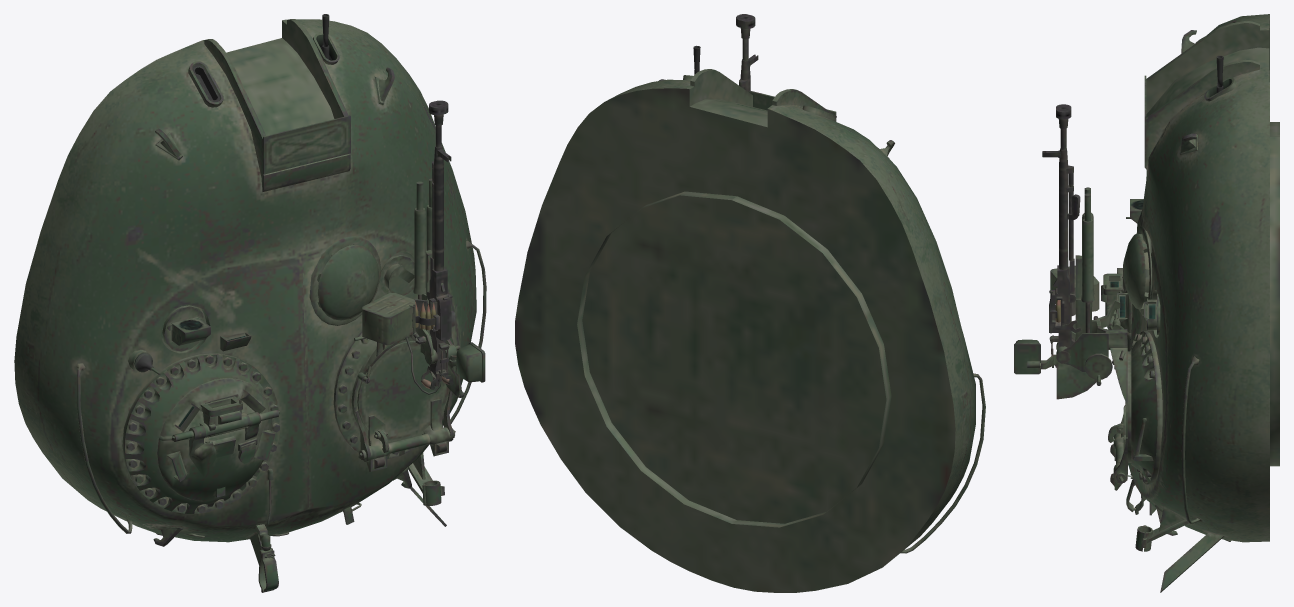
File: Turret_01.glb
3 views of the same model, side by side, from view 1: azimuth 30°, elevation 25°; view 2: azimuth 150°, elevation 25°; view 3: azimuth 270°, elevation 25° (orthographic). The views are drawn at different scales.
Visible parts, largest first — view 1: set_0_group_0; view 2: set_0_group_0; view 3: set_0_group_0.
Part boxes in pixels (x1,y1,x2,y2): set_0_group_0: (14, 14, 486, 592); set_0_group_0: (515, 14, 985, 592); set_0_group_0: (1014, 14, 1279, 592).
Size of the model in its own units: 2.65 by 2.98 by 1.43.
1 material, 1 textured.
